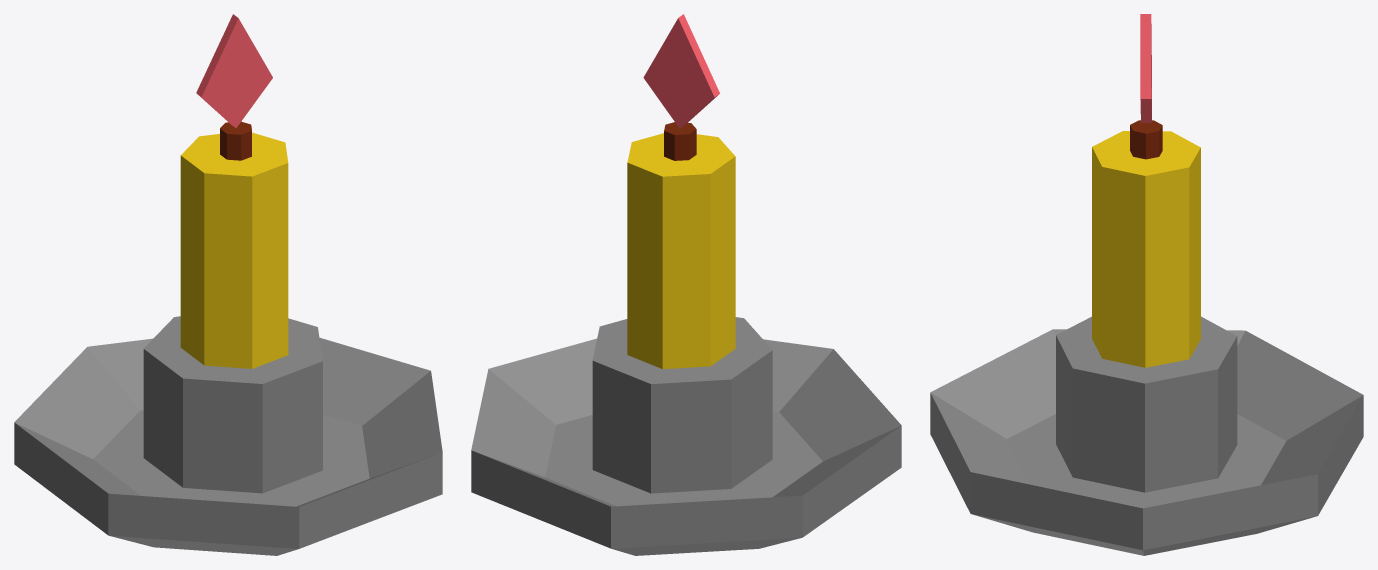
Rendered from Candle_1.fbx.
The picture shows the model from 3 angles, left to right: view 1: azimuth 30°, elevation 25°; view 2: azimuth 150°, elevation 25°; view 3: azimuth 270°, elevation 25°; orthographic projection.
Parts seen in each view (by area): view 1: Candle_1, Canlde_Flame_1; view 2: Candle_1, Canlde_Flame_1; view 3: Candle_1, Canlde_Flame_1.
Boxes of the visible parts, <box> form: Candle_1: <box>14,121,442,555</box>; Canlde_Flame_1: <box>196,14,272,127</box>; Candle_1: <box>471,122,901,555</box>; Canlde_Flame_1: <box>643,14,719,128</box>; Candle_1: <box>930,120,1363,555</box>; Canlde_Flame_1: <box>1140,14,1151,122</box>.
Bounding box in the file's own units: 25.89 × 32.42 × 26.47.
